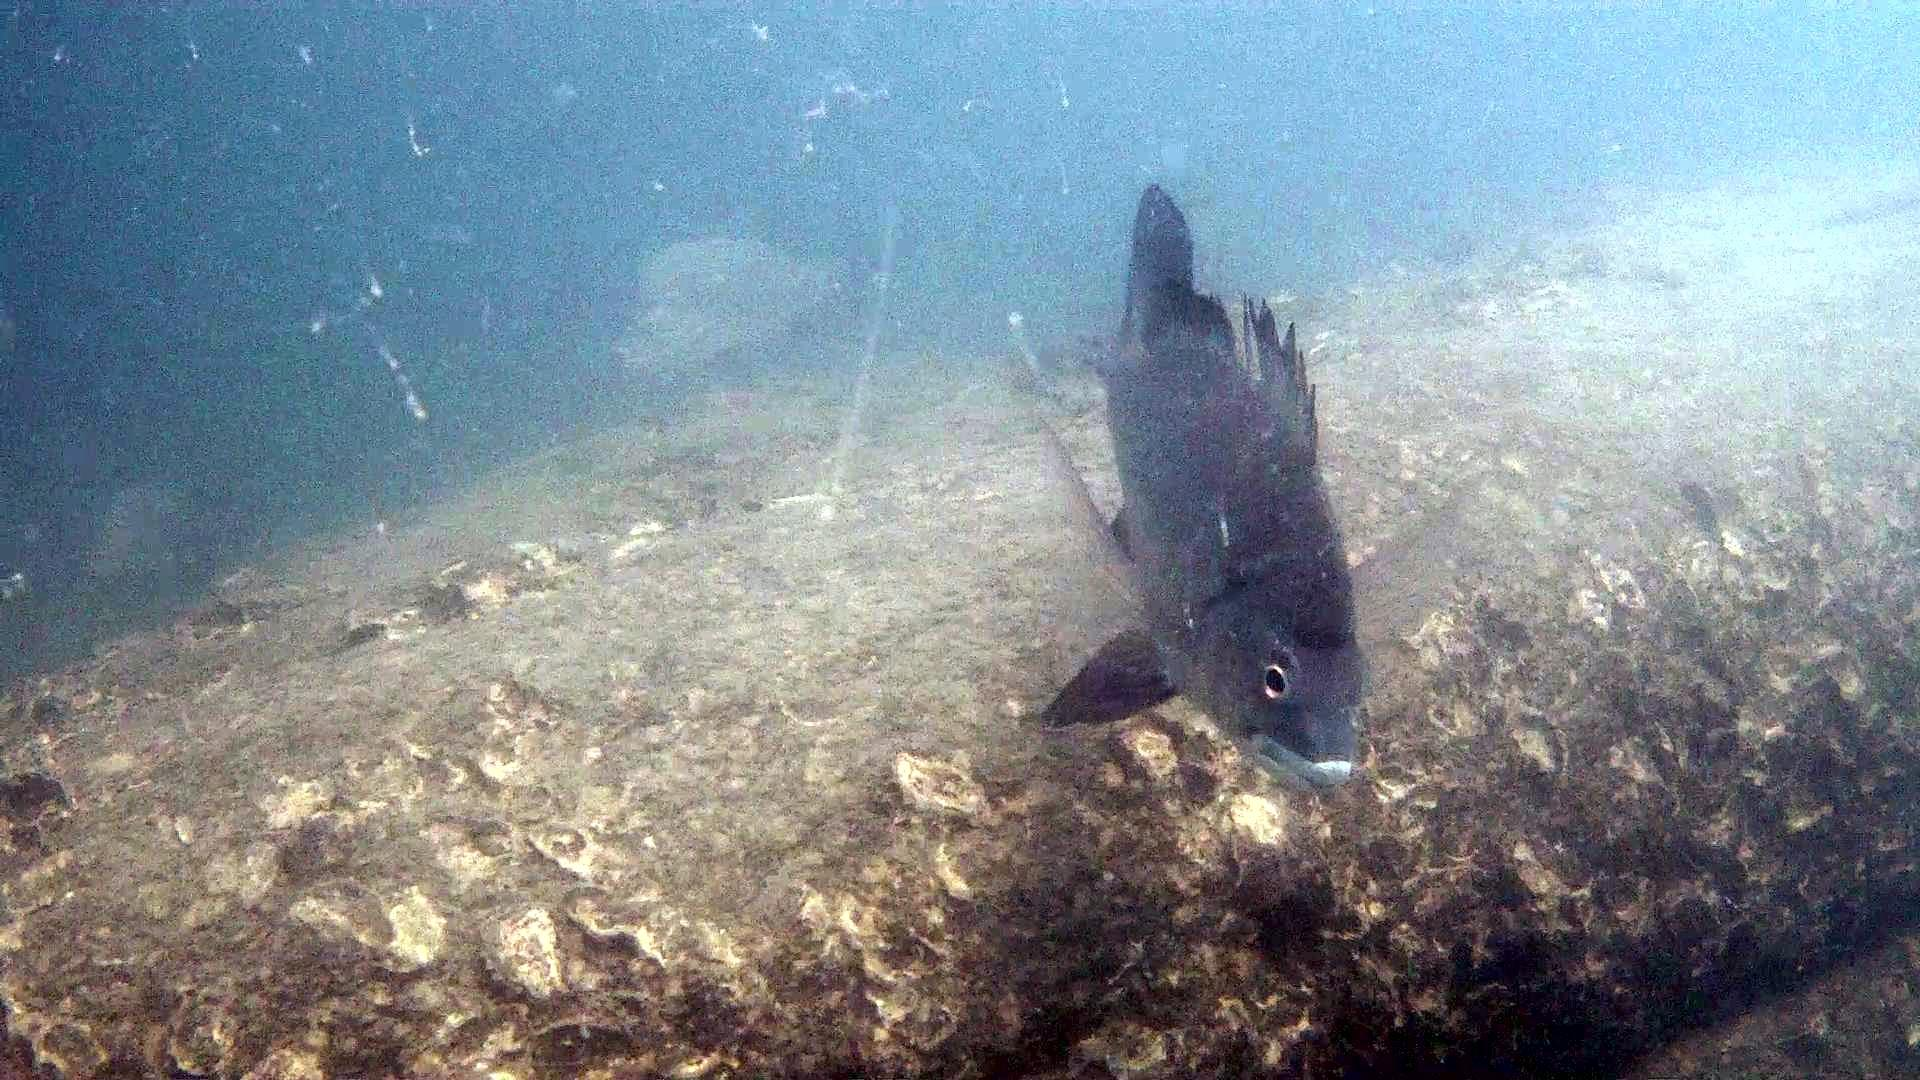acanthopagrus palmaris: (1007, 175, 1505, 804)
